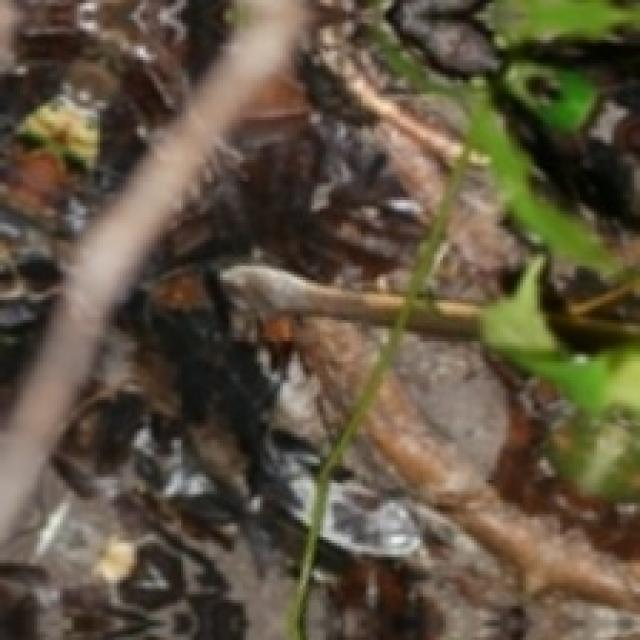king cobra: (220, 265, 401, 323), (412, 302, 478, 336)
